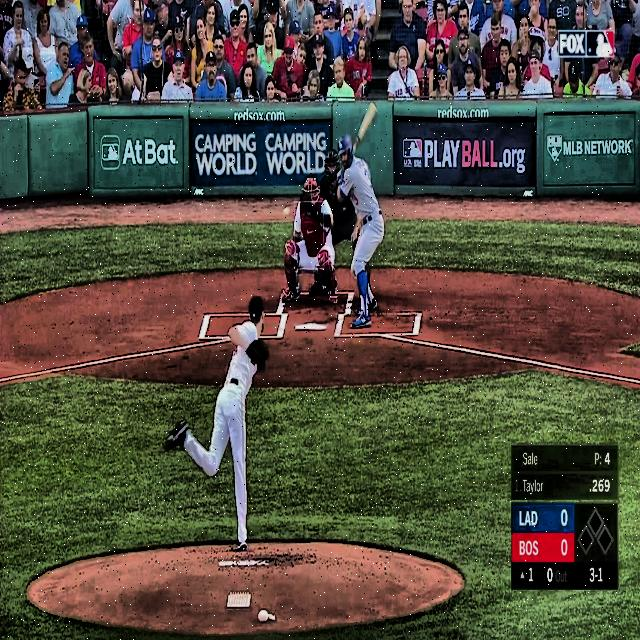baseball: (283, 206, 290, 216)
